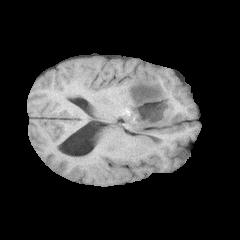glioma: (116, 73, 175, 133)
